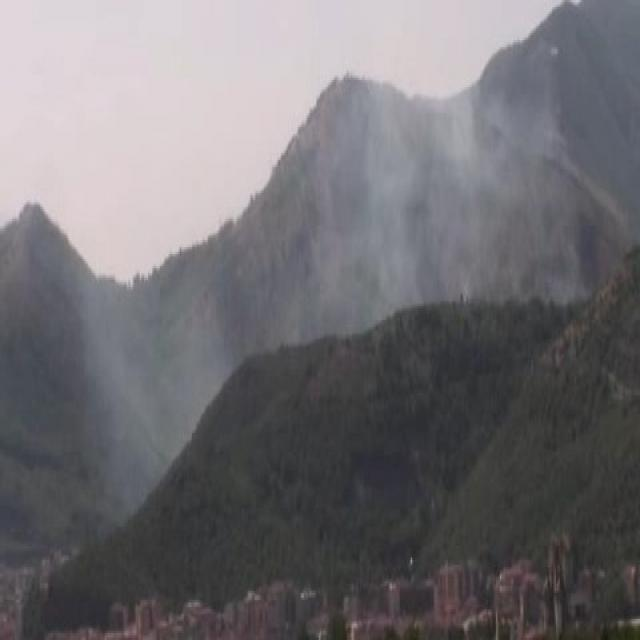smoke: (330, 80, 519, 309)
